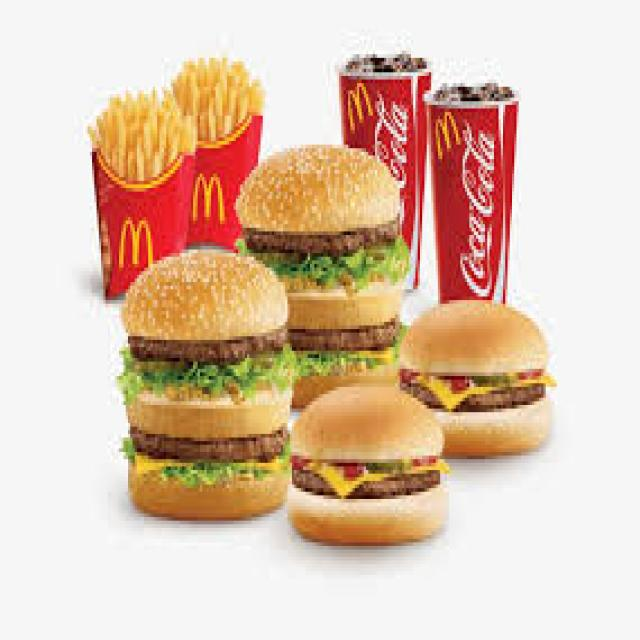감자튀김: (78, 77, 192, 303), (165, 47, 264, 257)
햄버거: (125, 258, 289, 523), (246, 153, 401, 401), (290, 372, 447, 551), (414, 310, 556, 468)
